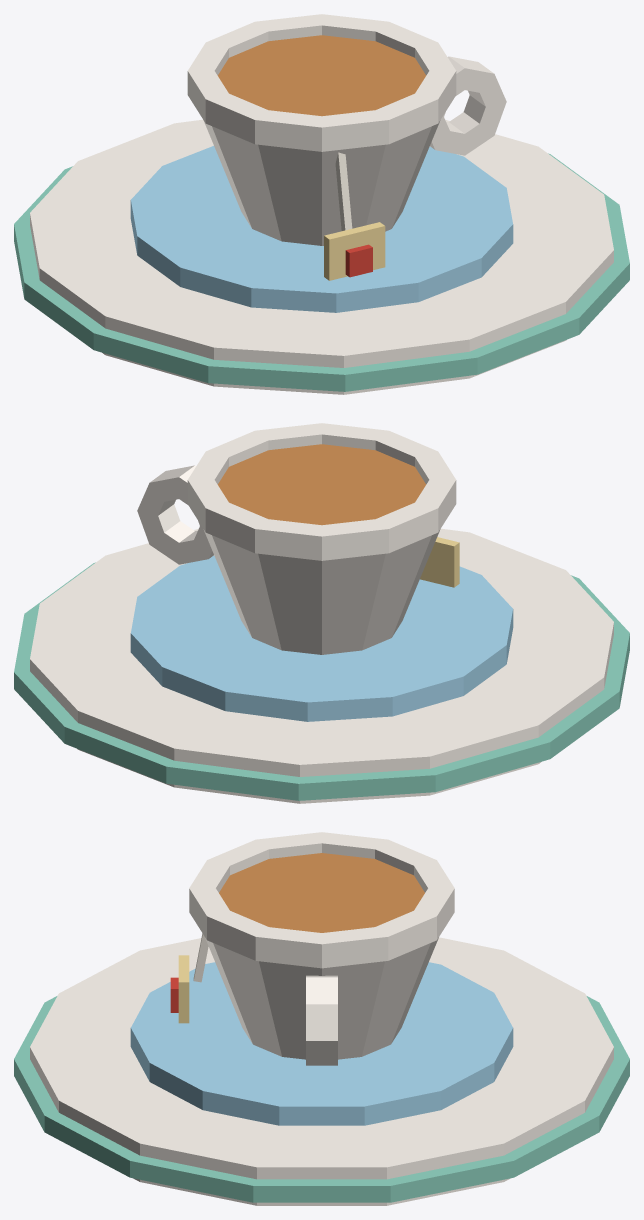
The model's file is CatCafe_Menu_Tea.glb.
3 renders of one model, top to bottom at view 1: azimuth 30°, elevation 25°; view 2: azimuth 150°, elevation 25°; view 3: azimuth 270°, elevation 25°, orthographic.
Parts seen in each view (by area): view 1: CatCafe_Menu_Tea, CatCafe_Menu_Tea_Plate; view 2: CatCafe_Menu_Tea, CatCafe_Menu_Tea_Plate; view 3: CatCafe_Menu_Tea, CatCafe_Menu_Tea_Plate.
Part boxes in pixels (x1,y1,x2,y2): CatCafe_Menu_Tea: (130,14,513,312); CatCafe_Menu_Tea_Plate: (14,119,629,394); CatCafe_Menu_Tea: (130,423,513,721); CatCafe_Menu_Tea_Plate: (14,528,629,803); CatCafe_Menu_Tea: (130,832,513,1125); CatCafe_Menu_Tea_Plate: (14,937,629,1205).
Bounding box in the file's own units: 1.13 × 0.45 × 1.16.
Materials: 1 (1 with a texture image).
